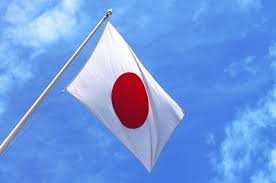Japanese Flag: (64, 20, 190, 174)
